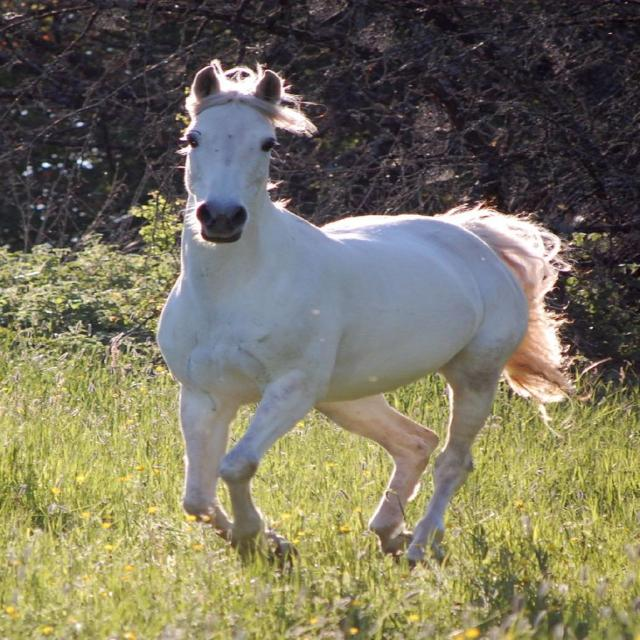Horse: (156, 57, 590, 570)
